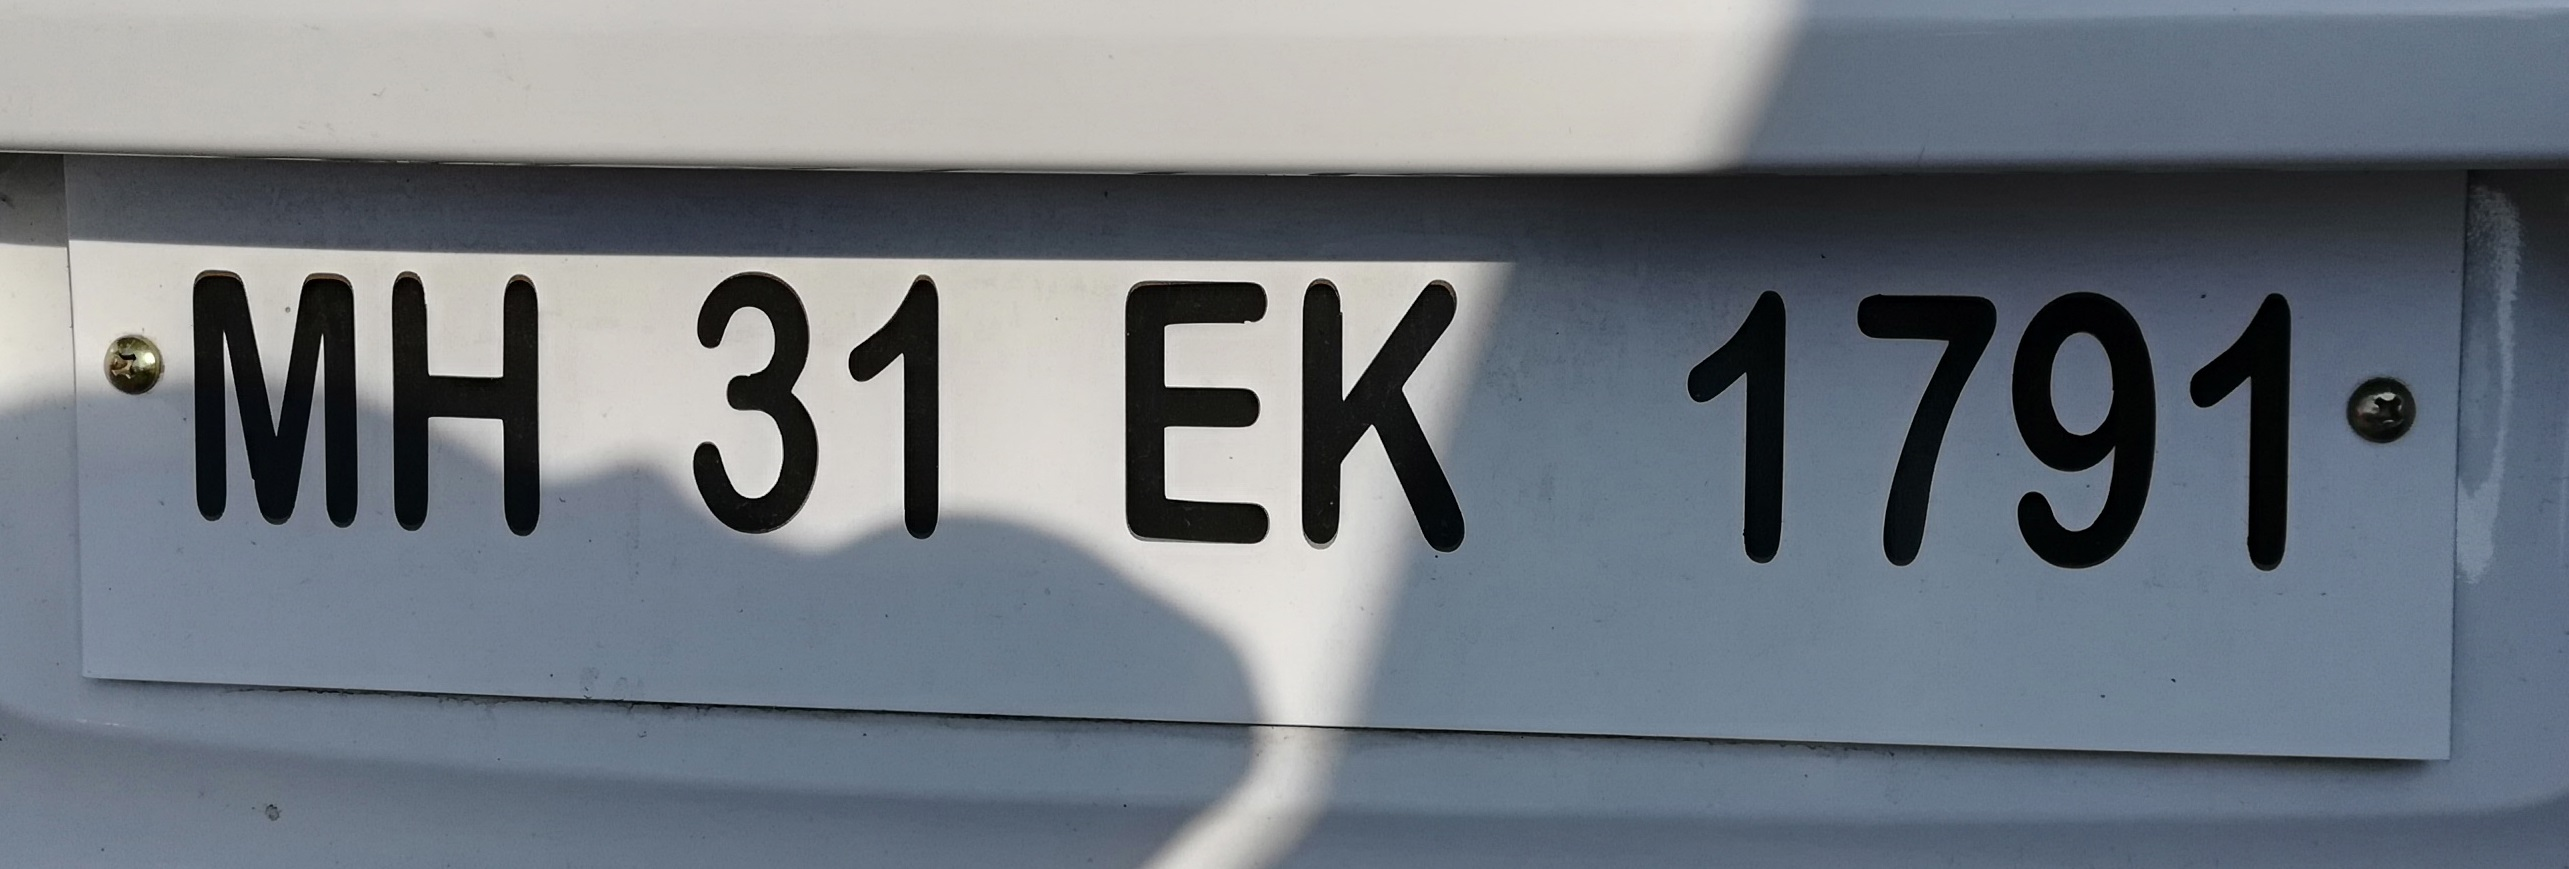numberplate: (47, 149, 2480, 767)
